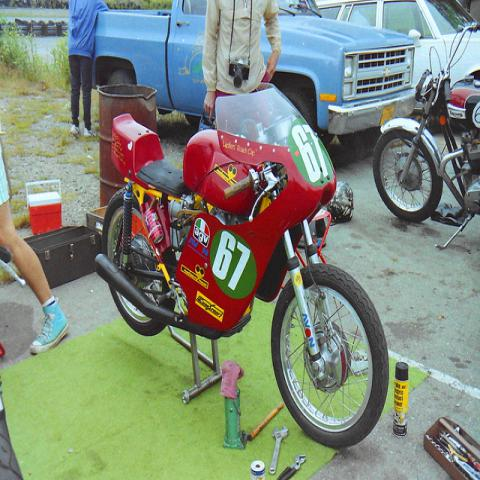car: (318, 0, 480, 85)
motorcycle: (96, 82, 392, 452), (371, 21, 479, 258)
truck: (92, 0, 414, 138)
